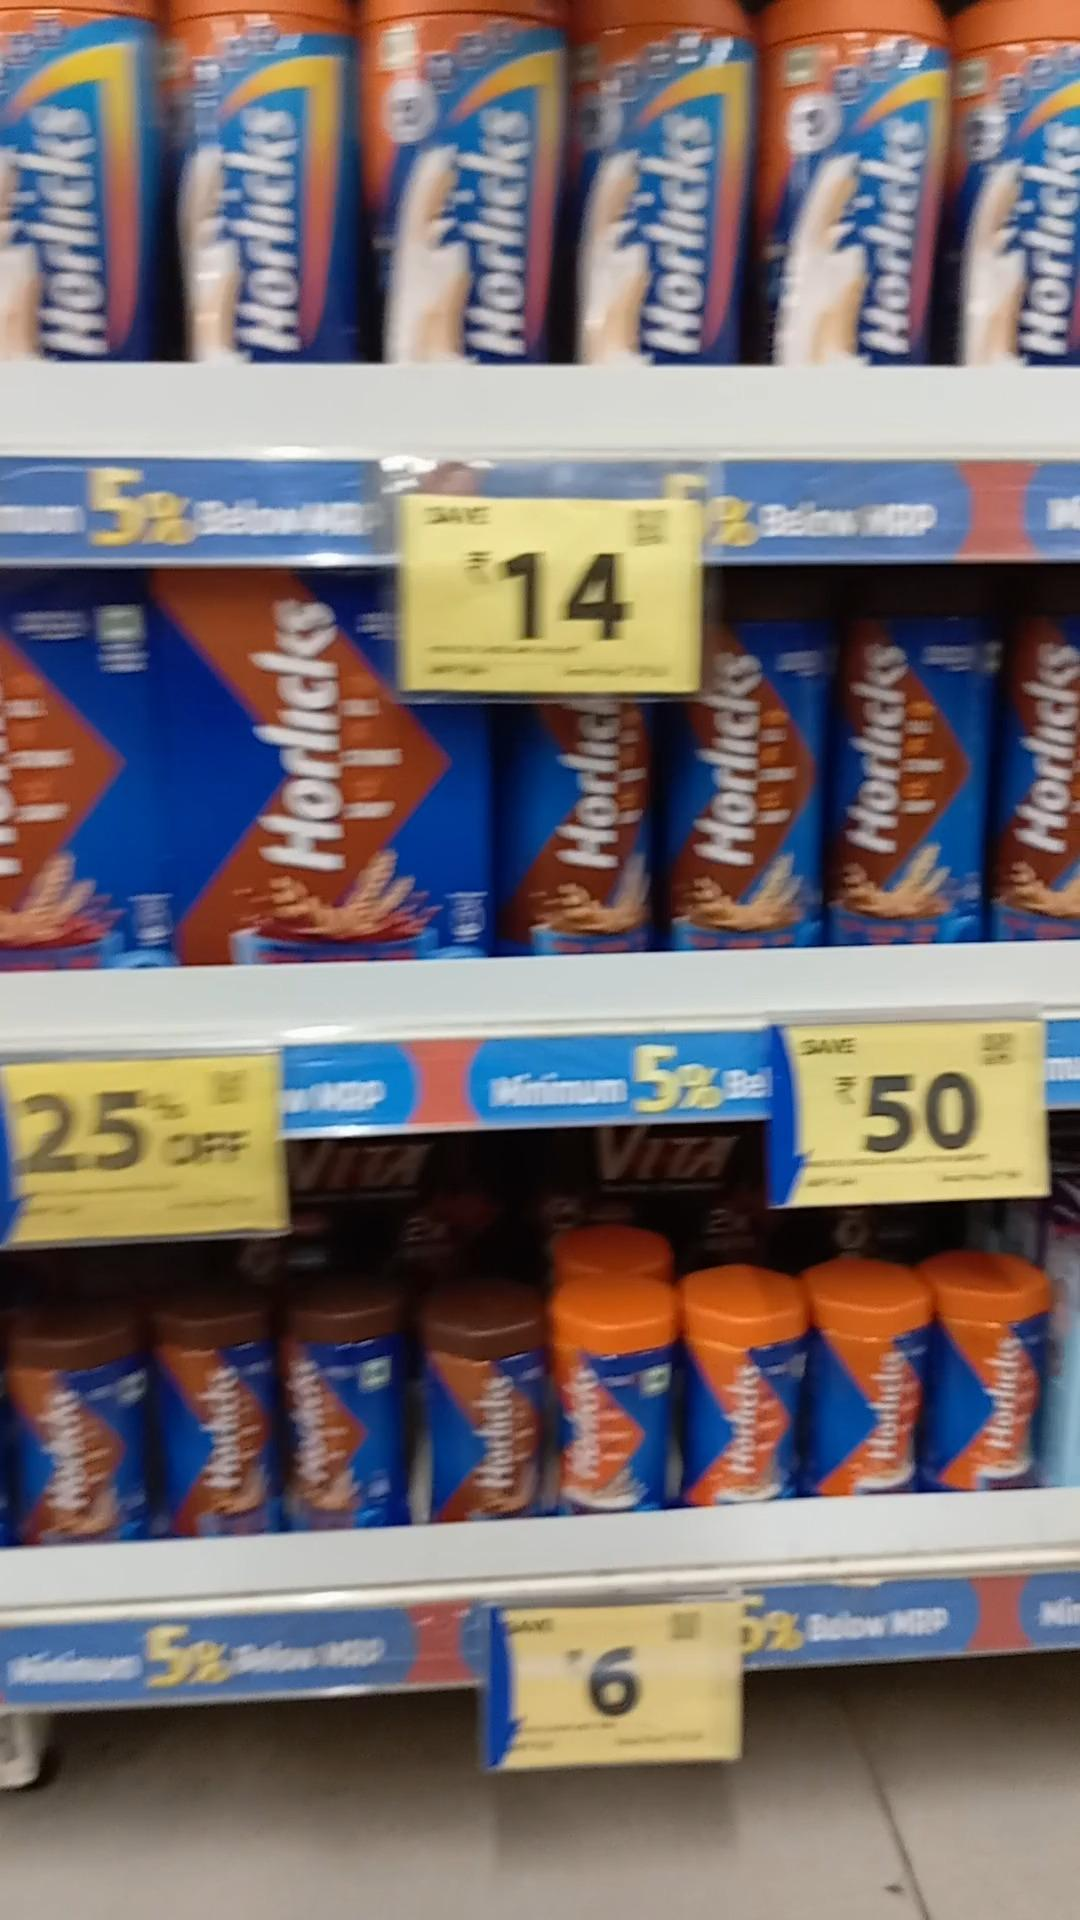HORLICK_CHOCOLATE_200_G_JAR: (4, 1325, 142, 1543), (281, 1299, 405, 1523), (160, 1309, 272, 1534), (427, 1308, 543, 1518)
HORLICK_CHOCOLATE_500_G_JAR: (848, 599, 989, 938), (669, 686, 827, 947), (501, 698, 653, 955)
HORLICK_CHOCOLATE_500_G_PACK: (165, 587, 479, 957)
HORLICK_CLASSIC_MALT_200_G_JAR: (553, 1302, 667, 1511), (687, 1290, 803, 1495), (940, 1267, 1047, 1490), (819, 1286, 926, 1495)
HORLICK_CLASSIC_MALT_500_G_JAR: (373, 0, 556, 361), (769, 5, 942, 359), (583, 5, 749, 368), (181, 5, 351, 351), (5, 5, 152, 359), (953, 0, 1080, 367)
